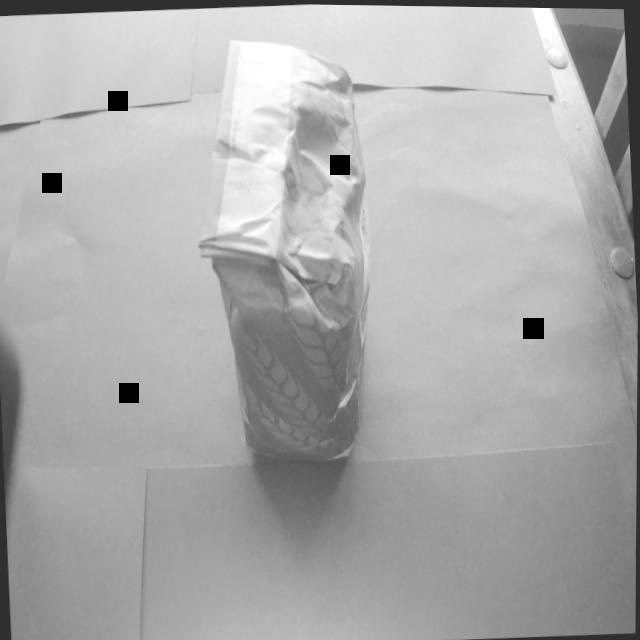Flour: (172, 2, 414, 519)
